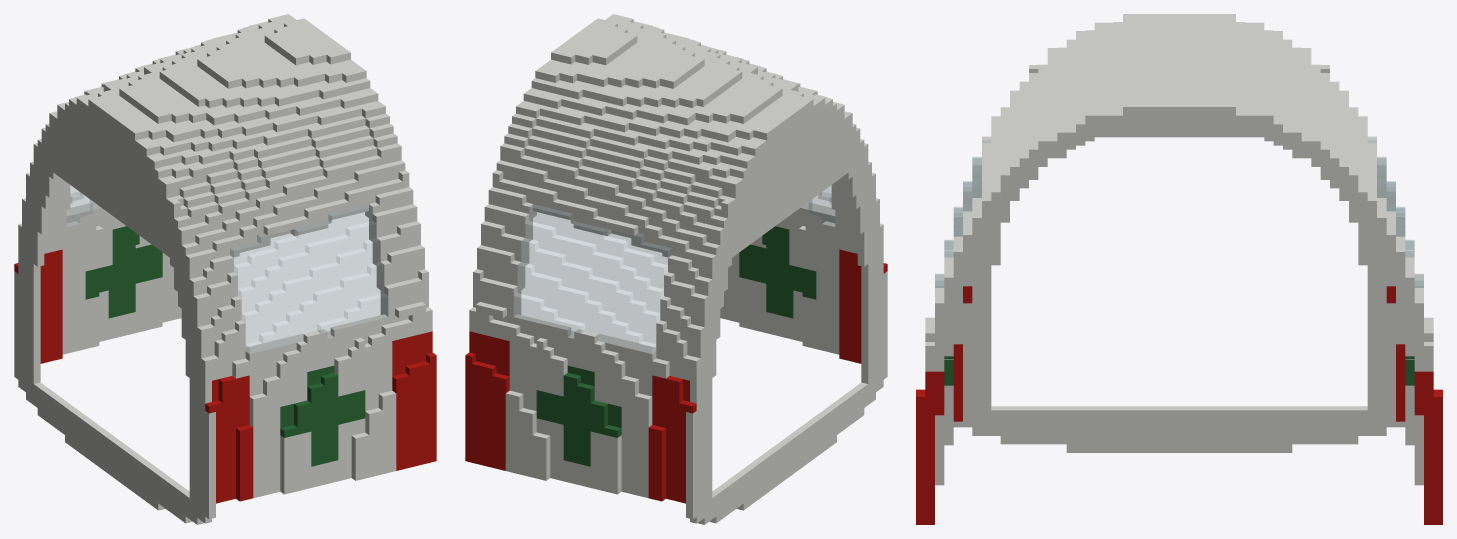
File: air_ambulance_cabin_rear.glb
3 renders of one model, left to right at view 1: azimuth 30°, elevation 25°; view 2: azimuth 150°, elevation 25°; view 3: azimuth 270°, elevation 25°, orthographic. The views are drawn at different scales.
Visible parts, largest first — view 1: body:compound; view 2: body:compound; view 3: body:compound.
Boxes of the visible parts, bbox=[...] form: body:compound: bbox=[14, 14, 436, 524]; body:compound: bbox=[465, 14, 887, 524]; body:compound: bbox=[916, 14, 1442, 524].
Bounding box in the file's own units: 1 × 1.72 × 1.75.
